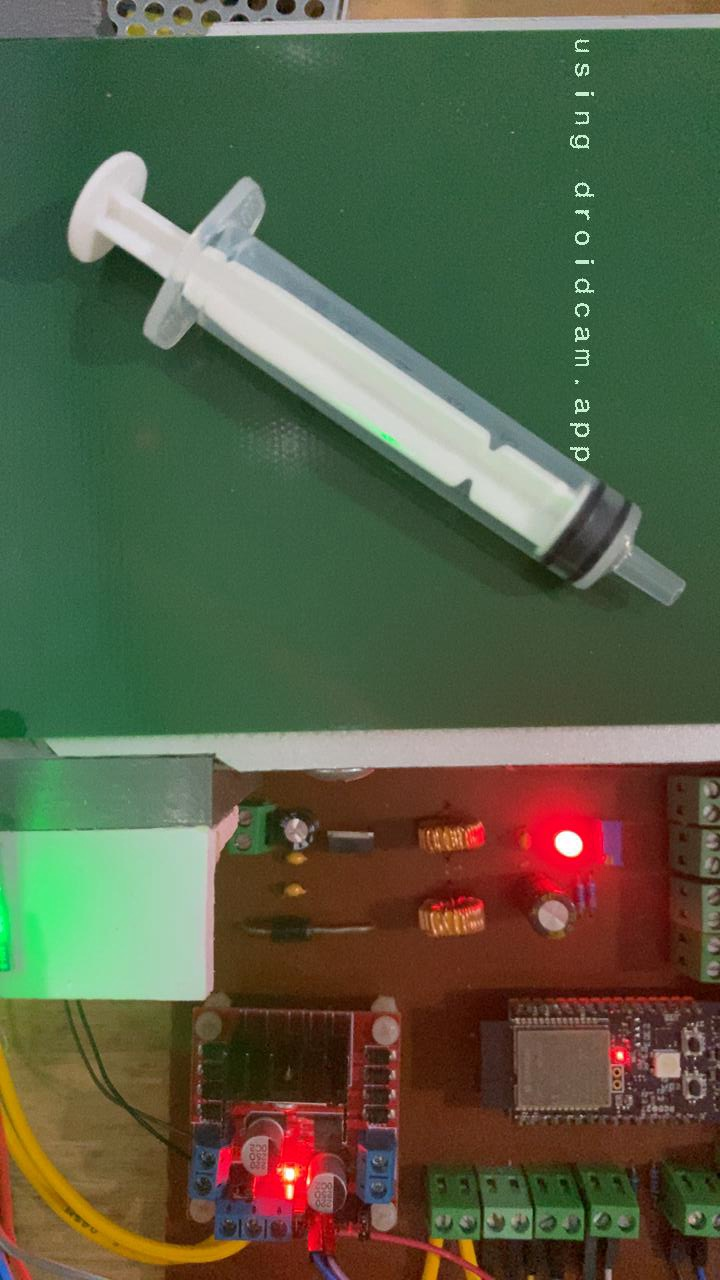syringe: (60, 144, 693, 615)
